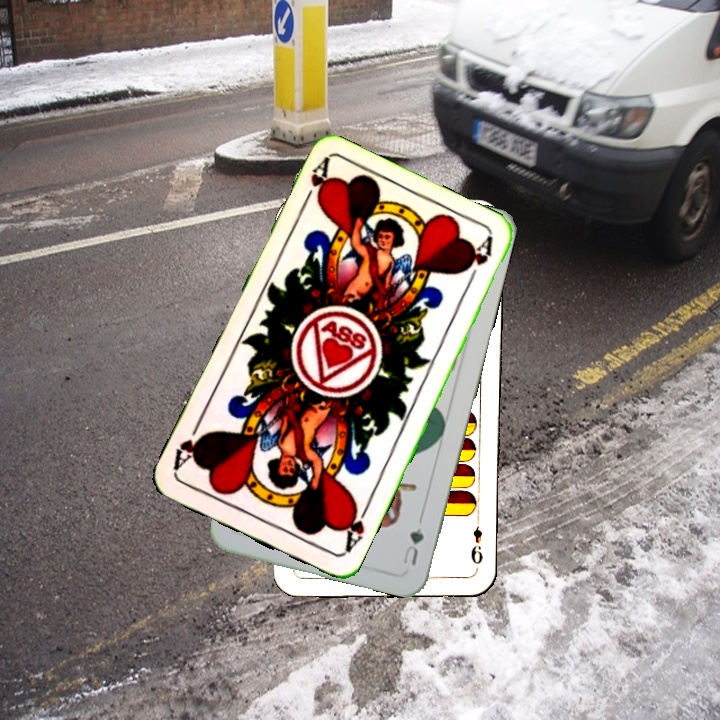E9: (467, 514, 485, 567)
GU: (398, 524, 427, 568)
HA: (296, 156, 332, 212), (338, 499, 372, 555)
